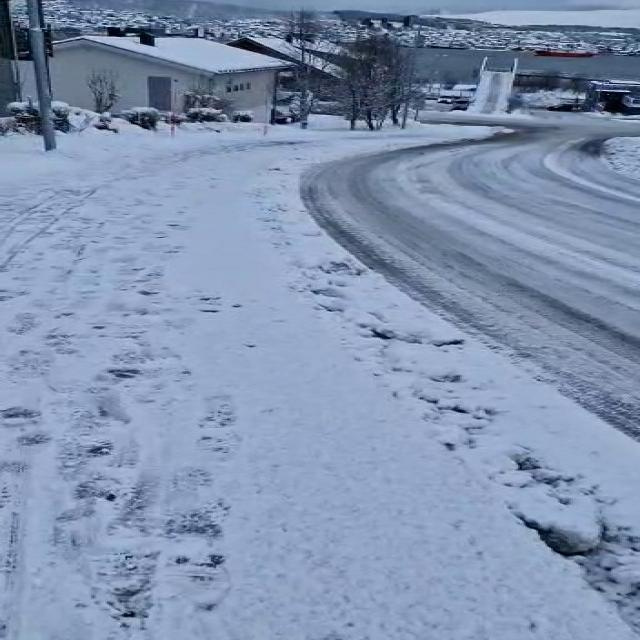path: (302, 112, 640, 434)
